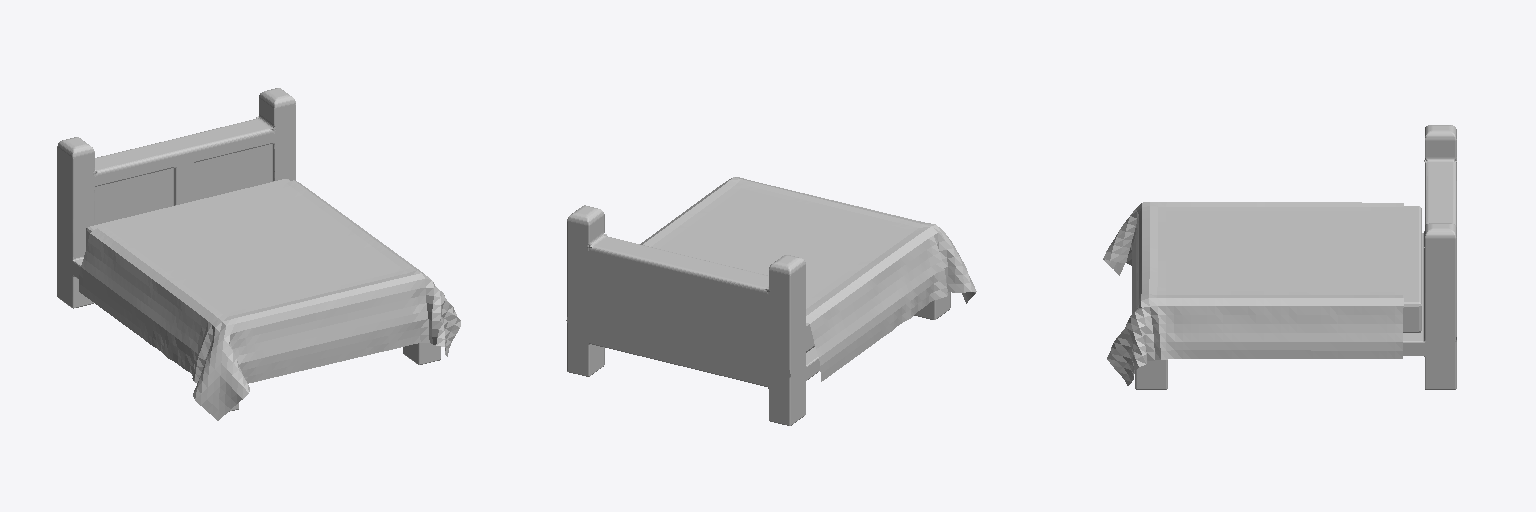
Rendered from Bed.obj.
3 views of the same model, side by side, from view 1: azimuth 30°, elevation 25°; view 2: azimuth 150°, elevation 25°; view 3: azimuth 270°, elevation 25° (orthographic).
Visible parts, largest first — view 1: polySurface6; view 2: polySurface6; view 3: polySurface6.
Part boxes in pixels (left/top/right/bottom): polySurface6: left=57, top=88, right=460, bottom=420; polySurface6: left=566, top=177, right=976, bottom=425; polySurface6: left=1103, top=125, right=1456, bottom=389.
Bounding box in the file's own units: 6.84 × 3.85 × 7.78.